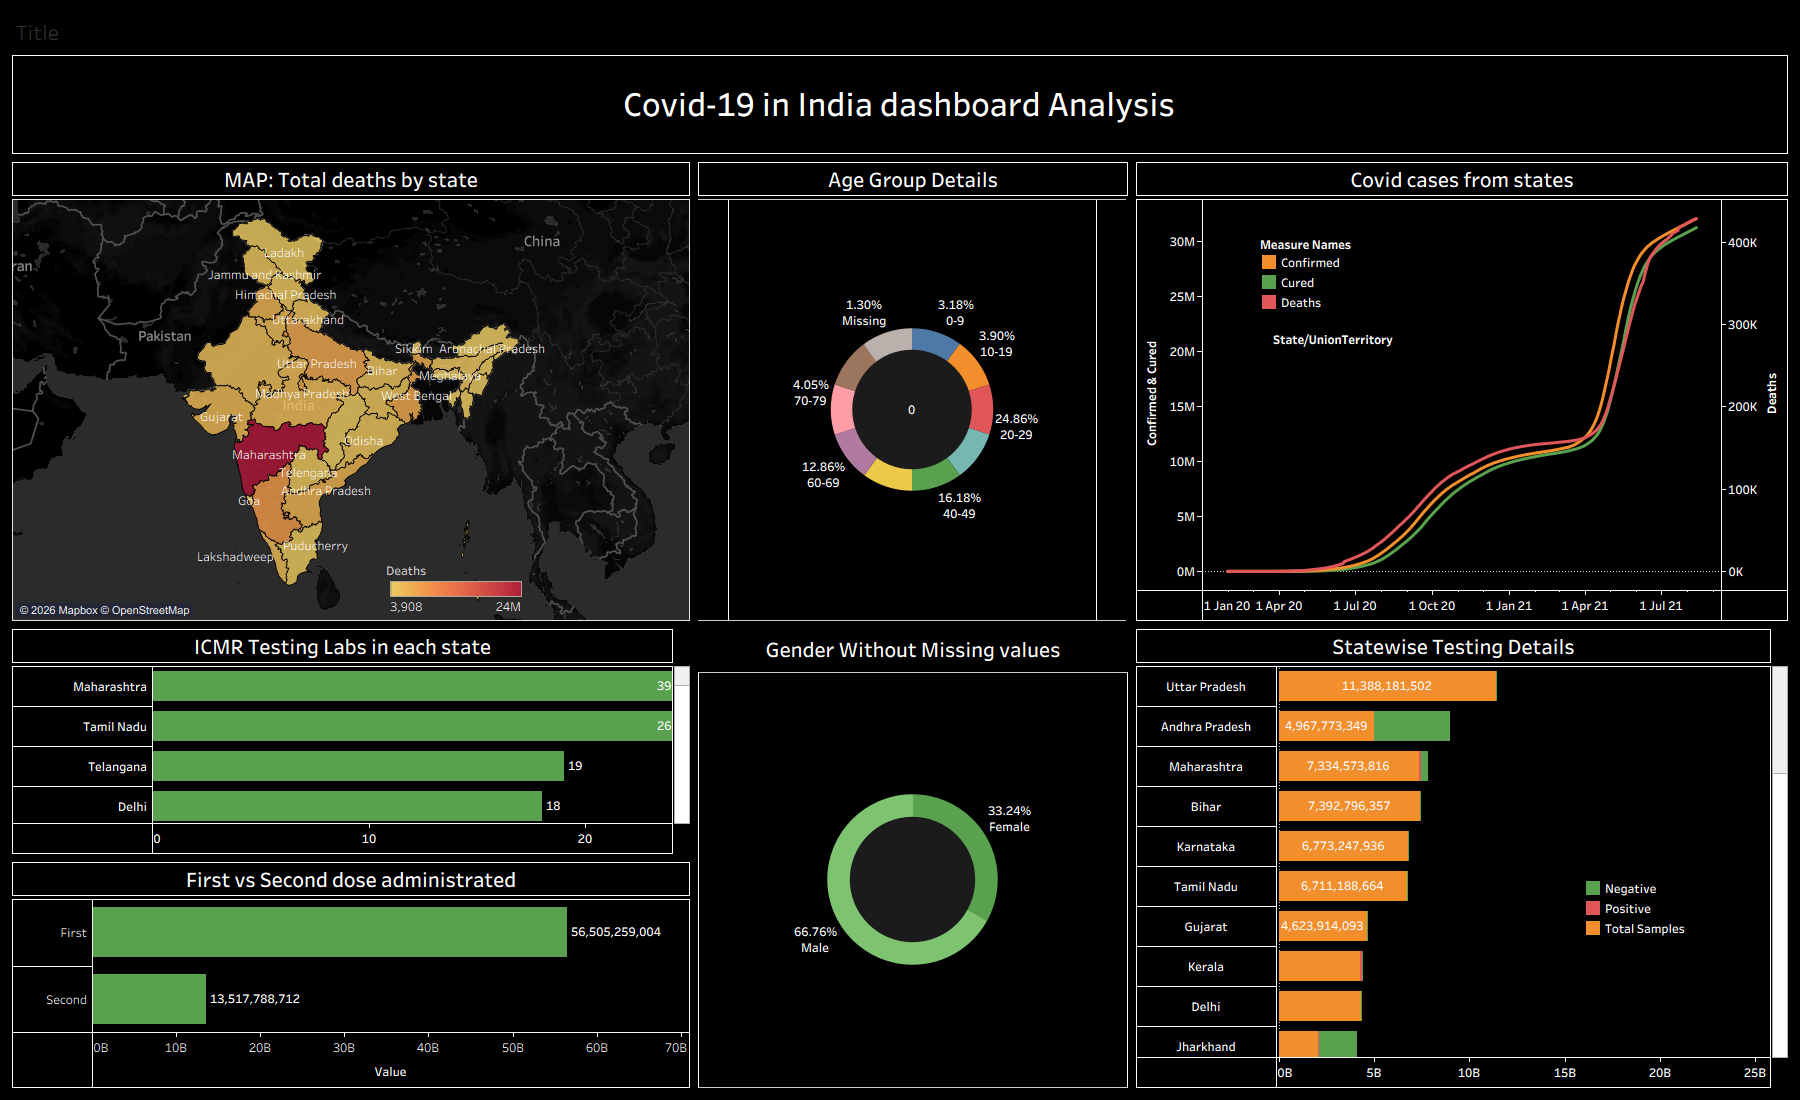

This screenshot's page, from the dashboard's own definition file:
{"tool":"tableau","page":{"name":"Dashboard 1","canvas":[1800,1100],"ordinal":0},"visuals":[{"type":"worksheet","title":"Title","mark":"Automatic","box":[8,8,1784,150]},{"type":"worksheet","title":"MAP: Total deaths by state","mark":"Multipolygon","box":[8,158,686.3,467]},{"type":"worksheet","title":"Age Group Details","mark":"Pie","rows":["Calculation_0764162892509187","Calculation_0764162892754949"],"box":[694.3,158,437.8,467]},{"type":"worksheet","title":"Covid cases from states","mark":"Automatic","rows":["Deaths"],"cols":["Date"],"box":[1132.2,158,659.8,467]},{"type":"legend","title":"Covid cases from states","param":"[federated.17pj2yn1ee3ewk10442w41yrhgwh].[:Measure Names]","box":[1259,234,140,78]},{"type":"filter","title":"Covid cases from states","param":"[federated.17pj2yn1ee3ewk10442w41yrhgwh].[none:State/UnionTerritory:nk]","box":[1249,330,168,52]},{"type":"legend","title":"MAP: Total deaths by state","param":"[federated.17pj2yn1ee3ewk10442w41yrhgwh].[sum:Deaths:qk]","box":[386,558,140,76]},{"type":"worksheet","title":"ICMR Testing Labs in each state","mark":"Automatic","rows":["state"],"cols":["lab"],"box":[8,625,686.3,232.9]},{"type":"worksheet","title":"Gender Without Missing values","mark":"Pie","rows":["Calculation_0764162900729863","Calculation_0764162900742153"],"box":[694.3,625,437.8,467]},{"type":"worksheet","title":"Statewise Testing Details","mark":"Automatic","rows":["State"],"box":[1132.2,625,659.8,467]},{"type":"worksheet","title":"First vs Second dose administrated","mark":"Automatic","box":[8,857.9,686.3,234.1]},{"type":"legend","title":"Statewise Testing Details","param":"[federated.1l5zv3c17qu29j1cf7um212iq73r].[:Measure Names]","box":[1583,878,140,60]}]}

Visuals, with their boxes in screenshot pixels (x1, y1, x2, y2), scaled from the page's 1800x1100 canvas onto the 1800x1100 screenshot:
"Title" worksheet: [8, 8, 1792, 158]
"MAP: Total deaths by state" worksheet (Multipolygon marks): [8, 158, 694, 625]
"Age Group Details" worksheet (Pie marks): [694, 158, 1132, 625]
"Covid cases from states" worksheet: [1132, 158, 1792, 625]
"Covid cases from states" legend: [1259, 234, 1399, 312]
"Covid cases from states" filter: [1249, 330, 1417, 382]
"MAP: Total deaths by state" legend: [386, 558, 526, 634]
"ICMR Testing Labs in each state" worksheet: [8, 625, 694, 858]
"Gender Without Missing values" worksheet (Pie marks): [694, 625, 1132, 1092]
"Statewise Testing Details" worksheet: [1132, 625, 1792, 1092]
"First vs Second dose administrated" worksheet: [8, 858, 694, 1092]
"Statewise Testing Details" legend: [1583, 878, 1723, 938]
